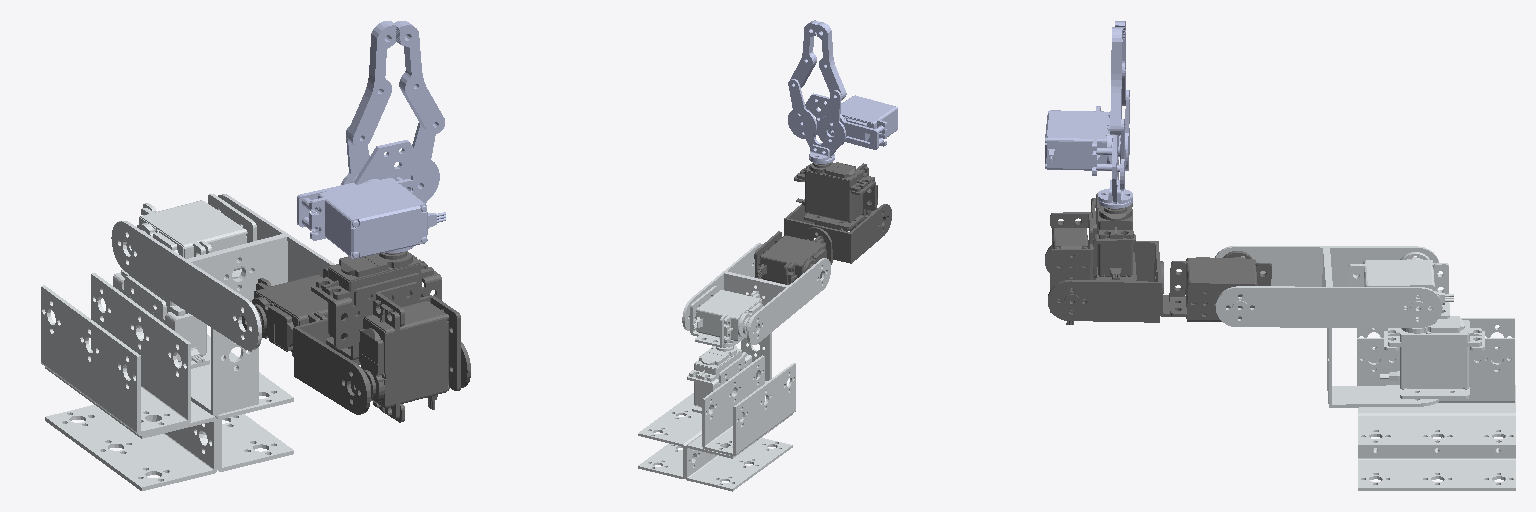
robot.urdf — 6_DOF_Robotics_Arm_Final.URDF:
<?xml version="1.0" encoding="utf-8"?>
<!-- This URDF was automatically created by SolidWorks to URDF Exporter! Originally created by [author] ([email redacted]) 
     Commit Version: 1.5.1-0-g916b5db  Build Version: 1.5.7152.31018
     For more information, please see http://wiki.ros.org/sw_urdf_exporter -->
<robot
  name="6_DOF_Robotics_Arm_Final.URDF">
  <link
    name="base_link">
    <inertial>
      <origin
        xyz="0.0541161429743802 -0.0691963813756943 0.064985086858552"
        rpy="0 0 0" />
      <mass
        value="0.188163504906416" />
      <inertia
        ixx="0.000128573783828188"
        ixy="1.51304442258009E-08"
        ixz="3.78080182986574E-07"
        iyy="5.15774857394592E-05"
        iyz="3.16384894484948E-08"
        izz="0.000128447911808392" />
    </inertial>
    <visual>
      <origin
        xyz="0 0 0"
        rpy="0 0 0" />
      <geometry>
        <mesh
          filename="package://6_DOF_Robotics_Arm_Final.URDF/meshes/base_link.STL" />
      </geometry>
      <material
        name="">
        <color
          rgba="0.898039215686275 0.917647058823529 0.929411764705882 1" />
      </material>
    </visual>
    <collision>
      <origin
        xyz="0 0 0"
        rpy="0 0 0" />
      <geometry>
        <mesh
          filename="package://6_DOF_Robotics_Arm_Final.URDF/meshes/base_link.STL" />
      </geometry>
    </collision>
  </link>
  <link
    name="Servo_1">
    <inertial>
      <origin
        xyz="0.00262003457259923 -0.0160254110277553 0.0550034622142633"
        rpy="0 0 0" />
      <mass
        value="0.0697171437888397" />
      <inertia
        ixx="3.26215924184291E-05"
        ixy="4.46853033725565E-07"
        ixz="-3.80890294963114E-07"
        iyy="1.97176889077533E-05"
        iyz="-1.25498494824953E-08"
        izz="2.11845689493179E-05" />
    </inertial>
    <visual>
      <origin
        xyz="0 0 0"
        rpy="0 0 0" />
      <geometry>
        <mesh
          filename="package://6_DOF_Robotics_Arm_Final.URDF/meshes/Servo_1.STL" />
      </geometry>
      <material
        name="">
        <color
          rgba="0.898039215686275 0.917647058823529 0.929411764705882 1" />
      </material>
    </visual>
    <collision>
      <origin
        xyz="0 0 0"
        rpy="0 0 0" />
      <geometry>
        <mesh
          filename="package://6_DOF_Robotics_Arm_Final.URDF/meshes/Servo_1.STL" />
      </geometry>
    </collision>
  </link>
  <joint
    name="J_Servo_1"
    type="revolute">
    <origin
      xyz="0.0606296506744766 -0.0800512931407774 0.0695824653839695"
      rpy="0 0 0" />
    <parent
      link="base_link" />
    <child
      link="Servo_1" />
    <axis
      xyz="0 0 1" />
    <limit
      lower="0"
      upper="6.284"
      effort="10"
      velocity="1" />
  </joint>
  <link
    name="Servo_2">
    <inertial>
      <origin
        xyz="-0.0488056125467775 0.000919860623275343 -0.0285440113804766"
        rpy="0 0 0" />
      <mass
        value="0.0477462491167637" />
      <inertia
        ixx="2.99677521324419E-05"
        ixy="3.00613423543034E-07"
        ixz="1.32348898008484E-19"
        iyy="4.59119208446105E-05"
        iyz="2.58385191545037E-19"
        izz="2.08534898617625E-05" />
    </inertial>
    <visual>
      <origin
        xyz="0 0 0"
        rpy="0 0 0" />
      <geometry>
        <mesh
          filename="package://6_DOF_Robotics_Arm_Final.URDF/meshes/Servo_2.STL" />
      </geometry>
      <material
        name="">
        <color
          rgba="0.894117647058823 0.913725490196078 0.929411764705882 1" />
      </material>
    </visual>
    <collision>
      <origin
        xyz="0 0 0"
        rpy="0 0 0" />
      <geometry>
        <mesh
          filename="package://6_DOF_Robotics_Arm_Final.URDF/meshes/Servo_2.STL" />
      </geometry>
    </collision>
  </link>
  <joint
    name="J_Servo_2"
    type="revolute">
    <origin
      xyz="0.0279012310885413 0.000579645930327333 0.0702922239700387"
      rpy="1.57079632679485 0 1.60231836298091" />
    <parent
      link="Servo_1" />
    <child
      link="Servo_2" />
    <axis
      xyz="0 0 -1" />
    <limit
      lower="0"
      upper="6.284"
      effort="10"
      velocity="1" />
  </joint>
  <link
    name="Servo_3">
    <inertial>
      <origin
        xyz="-0.0288731372298697 -5.72985396471715E-05 -0.0265881802115869"
        rpy="0 0 0" />
      <mass
        value="0.0766218826066926" />
      <inertia
        ixx="2.05074534096184E-05"
        ixy="8.42659579216293E-07"
        ixz="2.5652756742512E-08"
        iyy="3.48454330111084E-05"
        iyz="-3.82276648769762E-07"
        izz="2.13668806435349E-05" />
    </inertial>
    <visual>
      <origin
        xyz="0 0 0"
        rpy="0 0 0" />
      <geometry>
        <mesh
          filename="package://6_DOF_Robotics_Arm_Final.URDF/meshes/Servo_3.STL" />
      </geometry>
      <material
        name="">
        <color
          rgba="0.501960784313725 0.501960784313725 0.501960784313725 1" />
      </material>
    </visual>
    <collision>
      <origin
        xyz="0 0 0"
        rpy="0 0 0" />
      <geometry>
        <mesh
          filename="package://6_DOF_Robotics_Arm_Final.URDF/meshes/Servo_3.STL" />
      </geometry>
    </collision>
  </link>
  <joint
    name="J_Servo_3"
    type="revolute">
    <origin
      xyz="-0.101981892465741 0.00192209664904994 0"
      rpy="0 0 0" />
    <parent
      link="Servo_2" />
    <child
      link="Servo_3" />
    <axis
      xyz="0 0 -1" />
    <limit
      lower="0"
      upper="6.284"
      effort="10"
      velocity="1" />
  </joint>
  <link
    name="Servo_4">
    <inertial>
      <origin
        xyz="0.0122098036922746 0.0179347468629155 -0.0265930884325671"
        rpy="0 0 0" />
      <mass
        value="0.0916880384684618" />
      <inertia
        ixx="2.14724173590942E-05"
        ixy="3.42590346144344E-07"
        ixz="3.81192932345461E-07"
        iyy="1.43954469485834E-05"
        iyz="-8.10511823847165E-08"
        izz="1.44466732117496E-05" />
    </inertial>
    <visual>
      <origin
        xyz="0 0 0"
        rpy="0 0 0" />
      <geometry>
        <mesh
          filename="package://6_DOF_Robotics_Arm_Final.URDF/meshes/Servo_4.STL" />
      </geometry>
      <material
        name="">
        <color
          rgba="0.501960784313725 0.501960784313725 0.501960784313725 1" />
      </material>
    </visual>
    <collision>
      <origin
        xyz="0 0 0"
        rpy="0 0 0" />
      <geometry>
        <mesh
          filename="package://6_DOF_Robotics_Arm_Final.URDF/meshes/Servo_4.STL" />
      </geometry>
    </collision>
  </link>
  <joint
    name="J_Servo_4"
    type="revolute">
    <origin
      xyz="-0.0962728900578039 0.0052534478374367 -0.000255638957103441"
      rpy="0 0 0" />
    <parent
      link="Servo_3" />
    <child
      link="Servo_4" />
    <axis
      xyz="0 0 -1" />
    <limit
      lower="0"
      upper="6.284"
      effort="10"
      velocity="1" />
  </joint>
  <link
    name="Servo_5">
    <inertial>
      <origin
        xyz="0.0203981116824153 0.0163720259652086 0.0231459747844466"
        rpy="0 0 0" />
      <mass
        value="0.0375236817987459" />
      <inertia
        ixx="2.28913795416027E-06"
        ixy="2.89615561432946E-07"
        ixz="1.19849152770873E-08"
        iyy="7.17556838008689E-06"
        iyz="-5.99844580707235E-10"
        izz="6.42971802667197E-06" />
    </inertial>
    <visual>
      <origin
        xyz="0 0 0"
        rpy="0 0 0" />
      <geometry>
        <mesh
          filename="package://6_DOF_Robotics_Arm_Final.URDF/meshes/Servo_5.STL" />
      </geometry>
      <material
        name="">
        <color
          rgba="0.792156862745098 0.819607843137255 0.933333333333333 1" />
      </material>
    </visual>
    <collision>
      <origin
        xyz="0 0 0"
        rpy="0 0 0" />
      <geometry>
        <mesh
          filename="package://6_DOF_Robotics_Arm_Final.URDF/meshes/Servo_5.STL" />
      </geometry>
    </collision>
  </link>
  <joint
    name="J_Servo_5"
    type="revolute">
    <origin
      xyz="0.025501 0.056504 -0.01756"
      rpy="-1.6334 1.5708 -0.06813" />
    <parent
      link="Servo_4" />
    <child
      link="Servo_5" />
    <axis
      xyz="0 0 -1" />
    <limit
      lower="0"
      upper="6.284"
      effort="10"
      velocity="1" />
  </joint>
  <link
    name="Left">
    <inertial>
      <origin
        xyz="-0.000140263053481193 0.0378775395719271 -0.000487111945177948"
        rpy="0 0 0" />
      <mass
        value="0.00434842106430857" />
      <inertia
        ixx="1.03738495264322E-06"
        ixy="-1.70472757322792E-07"
        ixz="1.32348898008484E-23"
        iyy="1.37579602742187E-07"
        iyz="5.16987882845642E-23"
        izz="1.16958728171687E-06" />
    </inertial>
    <visual>
      <origin
        xyz="0 0 0"
        rpy="0 0 0" />
      <geometry>
        <mesh
          filename="package://6_DOF_Robotics_Arm_Final.URDF/meshes/Left.STL" />
      </geometry>
      <material
        name="">
        <color
          rgba="0.792156862745098 0.819607843137255 0.933333333333333 1" />
      </material>
    </visual>
    <collision>
      <origin
        xyz="0 0 0"
        rpy="0 0 0" />
      <geometry>
        <mesh
          filename="package://6_DOF_Robotics_Arm_Final.URDF/meshes/Left.STL" />
      </geometry>
    </collision>
  </link>
  <joint
    name="J_Left"
    type="revolute">
    <origin
      xyz="-0.0142790759972986 -0.0013876020851486 0.0250000000000311"
      rpy="1.5707963267949 -0.000411700793667653 -0.0746500953323074" />
    <parent
      link="Servo_5" />
    <child
      link="Left" />
    <axis
      xyz="0 0 1" />
    <limit
      lower="0"
      upper="6.284"
      effort="10"
      velocity="1" />
  </joint>
  <link
    name="Right">
    <inertial>
      <origin
        xyz="-0.00153120570884525 0.0265662084691654 0.00130600384235494"
        rpy="0 0 0" />
      <mass
        value="0.00629455198975266" />
      <inertia
        ixx="1.097316085587E-06"
        ixy="1.7579506983526E-07"
        ixz="9.92616735063633E-23"
        iyy="1.74975030550982E-07"
        iyz="-5.60414865004676E-22"
        izz="1.26288025520034E-06" />
    </inertial>
    <visual>
      <origin
        xyz="0 0 0"
        rpy="0 0 0" />
      <geometry>
        <mesh
          filename="package://6_DOF_Robotics_Arm_Final.URDF/meshes/Right.STL" />
      </geometry>
      <material
        name="">
        <color
          rgba="0.792156862745098 0.819607843137255 0.933333333333333 1" />
      </material>
    </visual>
    <collision>
      <origin
        xyz="0 0 0"
        rpy="0 0 0" />
      <geometry>
        <mesh
          filename="package://6_DOF_Robotics_Arm_Final.URDF/meshes/Right.STL" />
      </geometry>
    </collision>
  </link>
  <joint
    name="J_Right"
    type="revolute">
    <origin
      xyz="0.0122841327370988 -0.00287284338994137 0.0249999999999963"
      rpy="1.5707963267949 -0.000411700793667649 -0.0746500953323066" />
    <parent
      link="Servo_5" />
    <child
      link="Right" />
    <axis
      xyz="0 0 -1" />
    <limit
      lower="0"
      upper="6.284"
      effort="10"
      velocity="1" />
  </joint>
</robot>

--- Facts derived from the render (not from the file) ---
The picture shows the robot from 3 angles, left to right: view 1: azimuth 30°, elevation 25°; view 2: azimuth 150°, elevation 25°; view 3: azimuth 270°, elevation 25°; orthographic projection.
Model 6_DOF_Robotics_Arm_Final.URDF with 8 links and 7 joints (7 revolute), rooted at base_link, posed every joint at zero.
Visible links, largest first — view 1: base_link, Servo_4, Servo_2, Servo_5, Servo_1, Servo_3, Right, Left; view 2: base_link, Servo_3, Servo_2, Servo_4, Servo_1, Servo_5, Right, Left; view 3: base_link, Servo_2, Servo_3, Servo_4, Servo_1, Servo_5, Left, Right.
Boxes of the visible links, left/top/right/bottom form: base_link: left=41, top=269, right=293, bottom=490; Servo_4: left=311, top=251, right=460, bottom=422; Servo_2: left=111, top=194, right=334, bottom=350; Servo_5: left=297, top=140, right=445, bottom=258; Servo_1: left=137, top=194, right=258, bottom=415; Servo_3: left=242, top=268, right=470, bottom=414; Right: left=341, top=21, right=396, bottom=184; Left: left=394, top=21, right=444, bottom=199; base_link: left=638, top=346, right=795, bottom=491; Servo_3: left=754, top=204, right=891, bottom=284; Servo_2: left=682, top=243, right=830, bottom=344; Servo_4: left=794, top=162, right=882, bottom=231; Servo_1: left=690, top=286, right=771, bottom=382; Servo_5: left=799, top=93, right=897, bottom=163; Right: left=816, top=22, right=846, bottom=147; Left: left=788, top=20, right=819, bottom=138; base_link: left=1357, top=316, right=1515, bottom=490; Servo_2: left=1215, top=246, right=1442, bottom=327; Servo_3: left=1045, top=241, right=1271, bottom=322; Servo_4: left=1050, top=193, right=1136, bottom=324; Servo_1: left=1327, top=258, right=1453, bottom=407; Servo_5: left=1045, top=106, right=1132, bottom=208; Left: left=1110, top=27, right=1125, bottom=190; Right: left=1115, top=21, right=1129, bottom=170.
Bounding box of the posed robot: 0.0845 × 0.2697 × 0.283 m (x, y, z).
8 mesh visuals loaded from 8 distinct referenced files (8 binary STL).